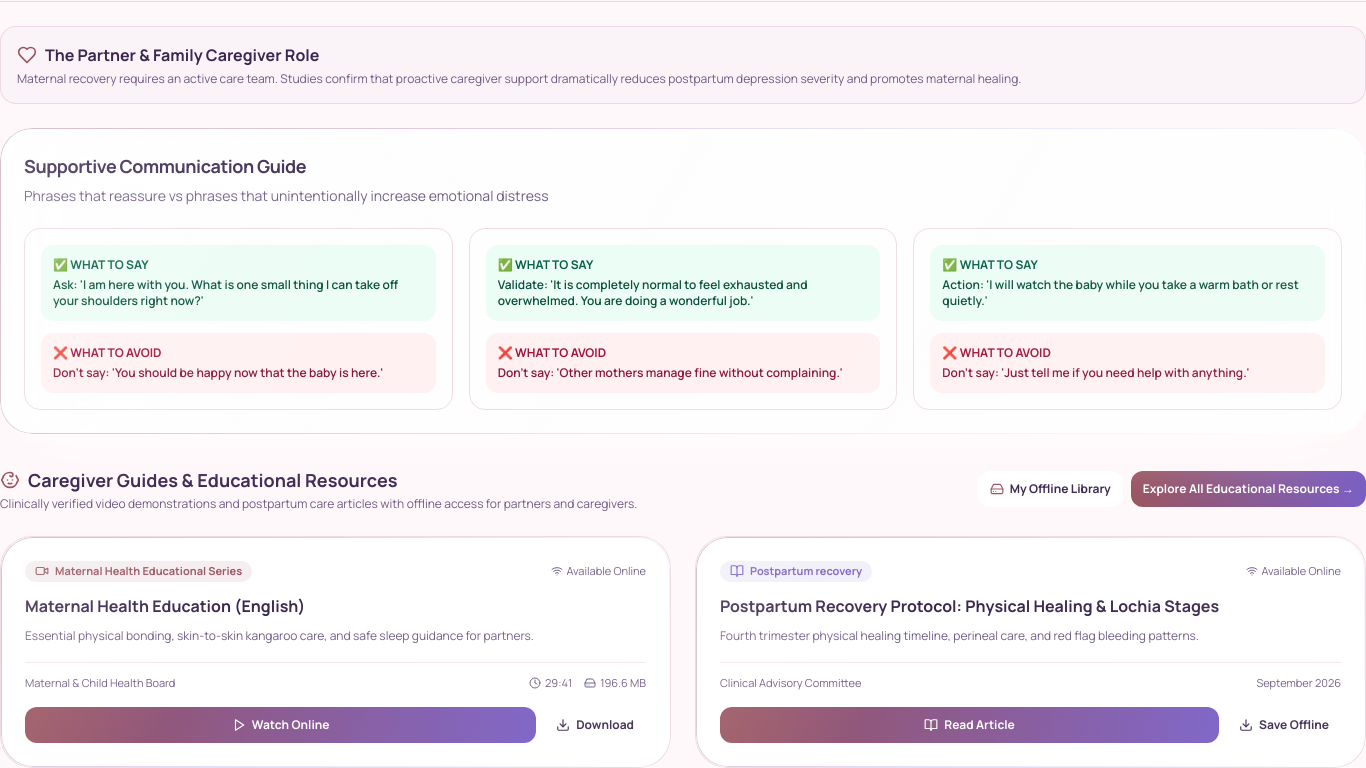
Test: CaregiverPage Component — Educational Library Integration › opens article reader modal when Read Article is clicked
(page scrolled)
expect the heading "Postpartum Recovery Protocol: Physical Healing & Lochia Stages" is shown: met, box [720,594,1219,616]
Click the button "Read Article" at (970, 725), box [720,707,1219,743]
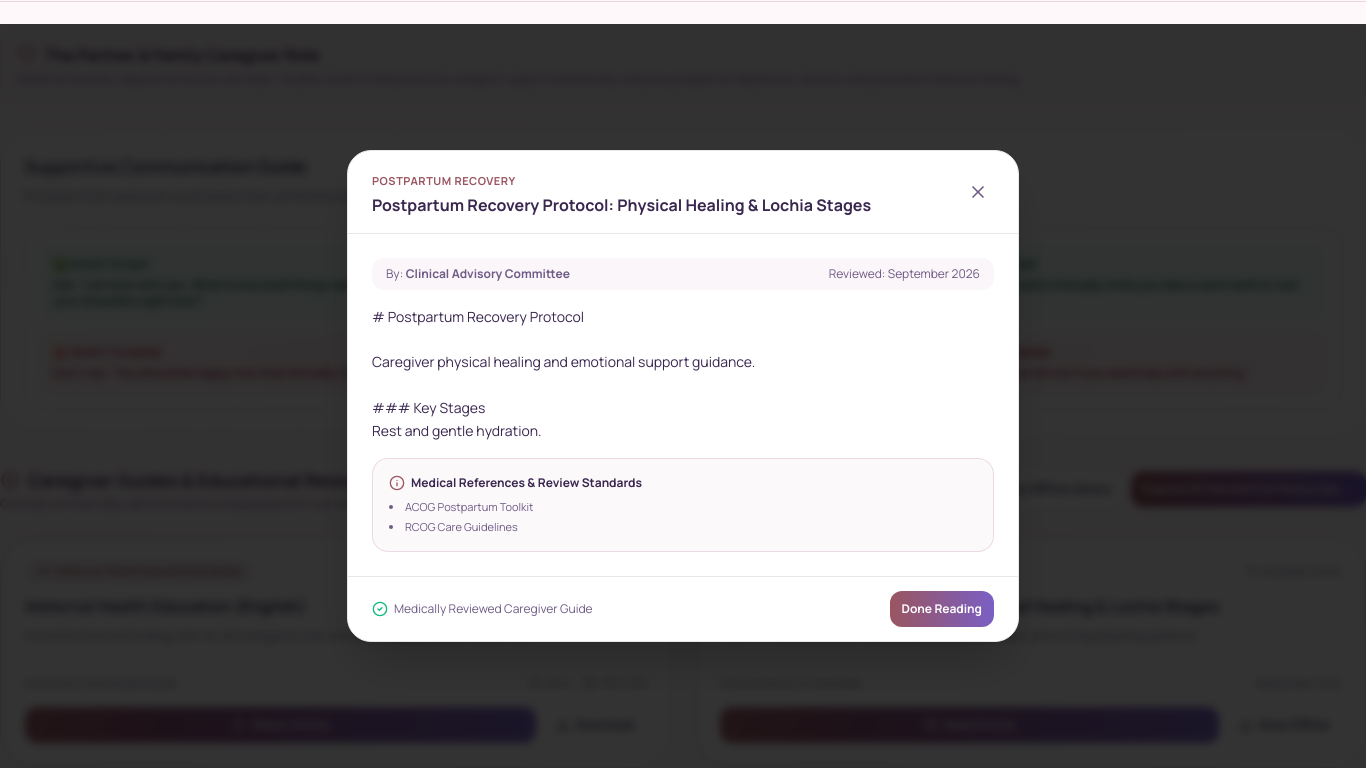
expect the text "Medically Reviewed Caregiver Guide" is shown: met, box [372,601,593,617]
expect the heading "Medical References & Review Standards" is shown: met, box [389,474,642,491]
expect the list item "ACOG Postpartum Toolkit" is shown: met, box [405,499,534,514]
